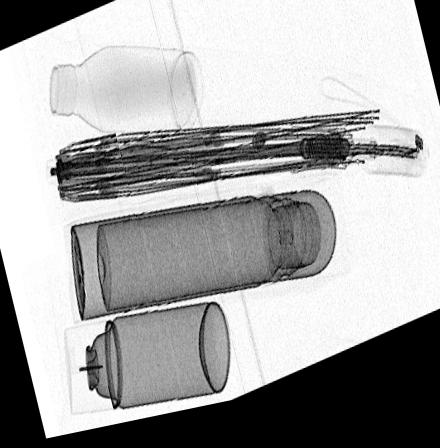Sprayer: (63, 308, 231, 418)
